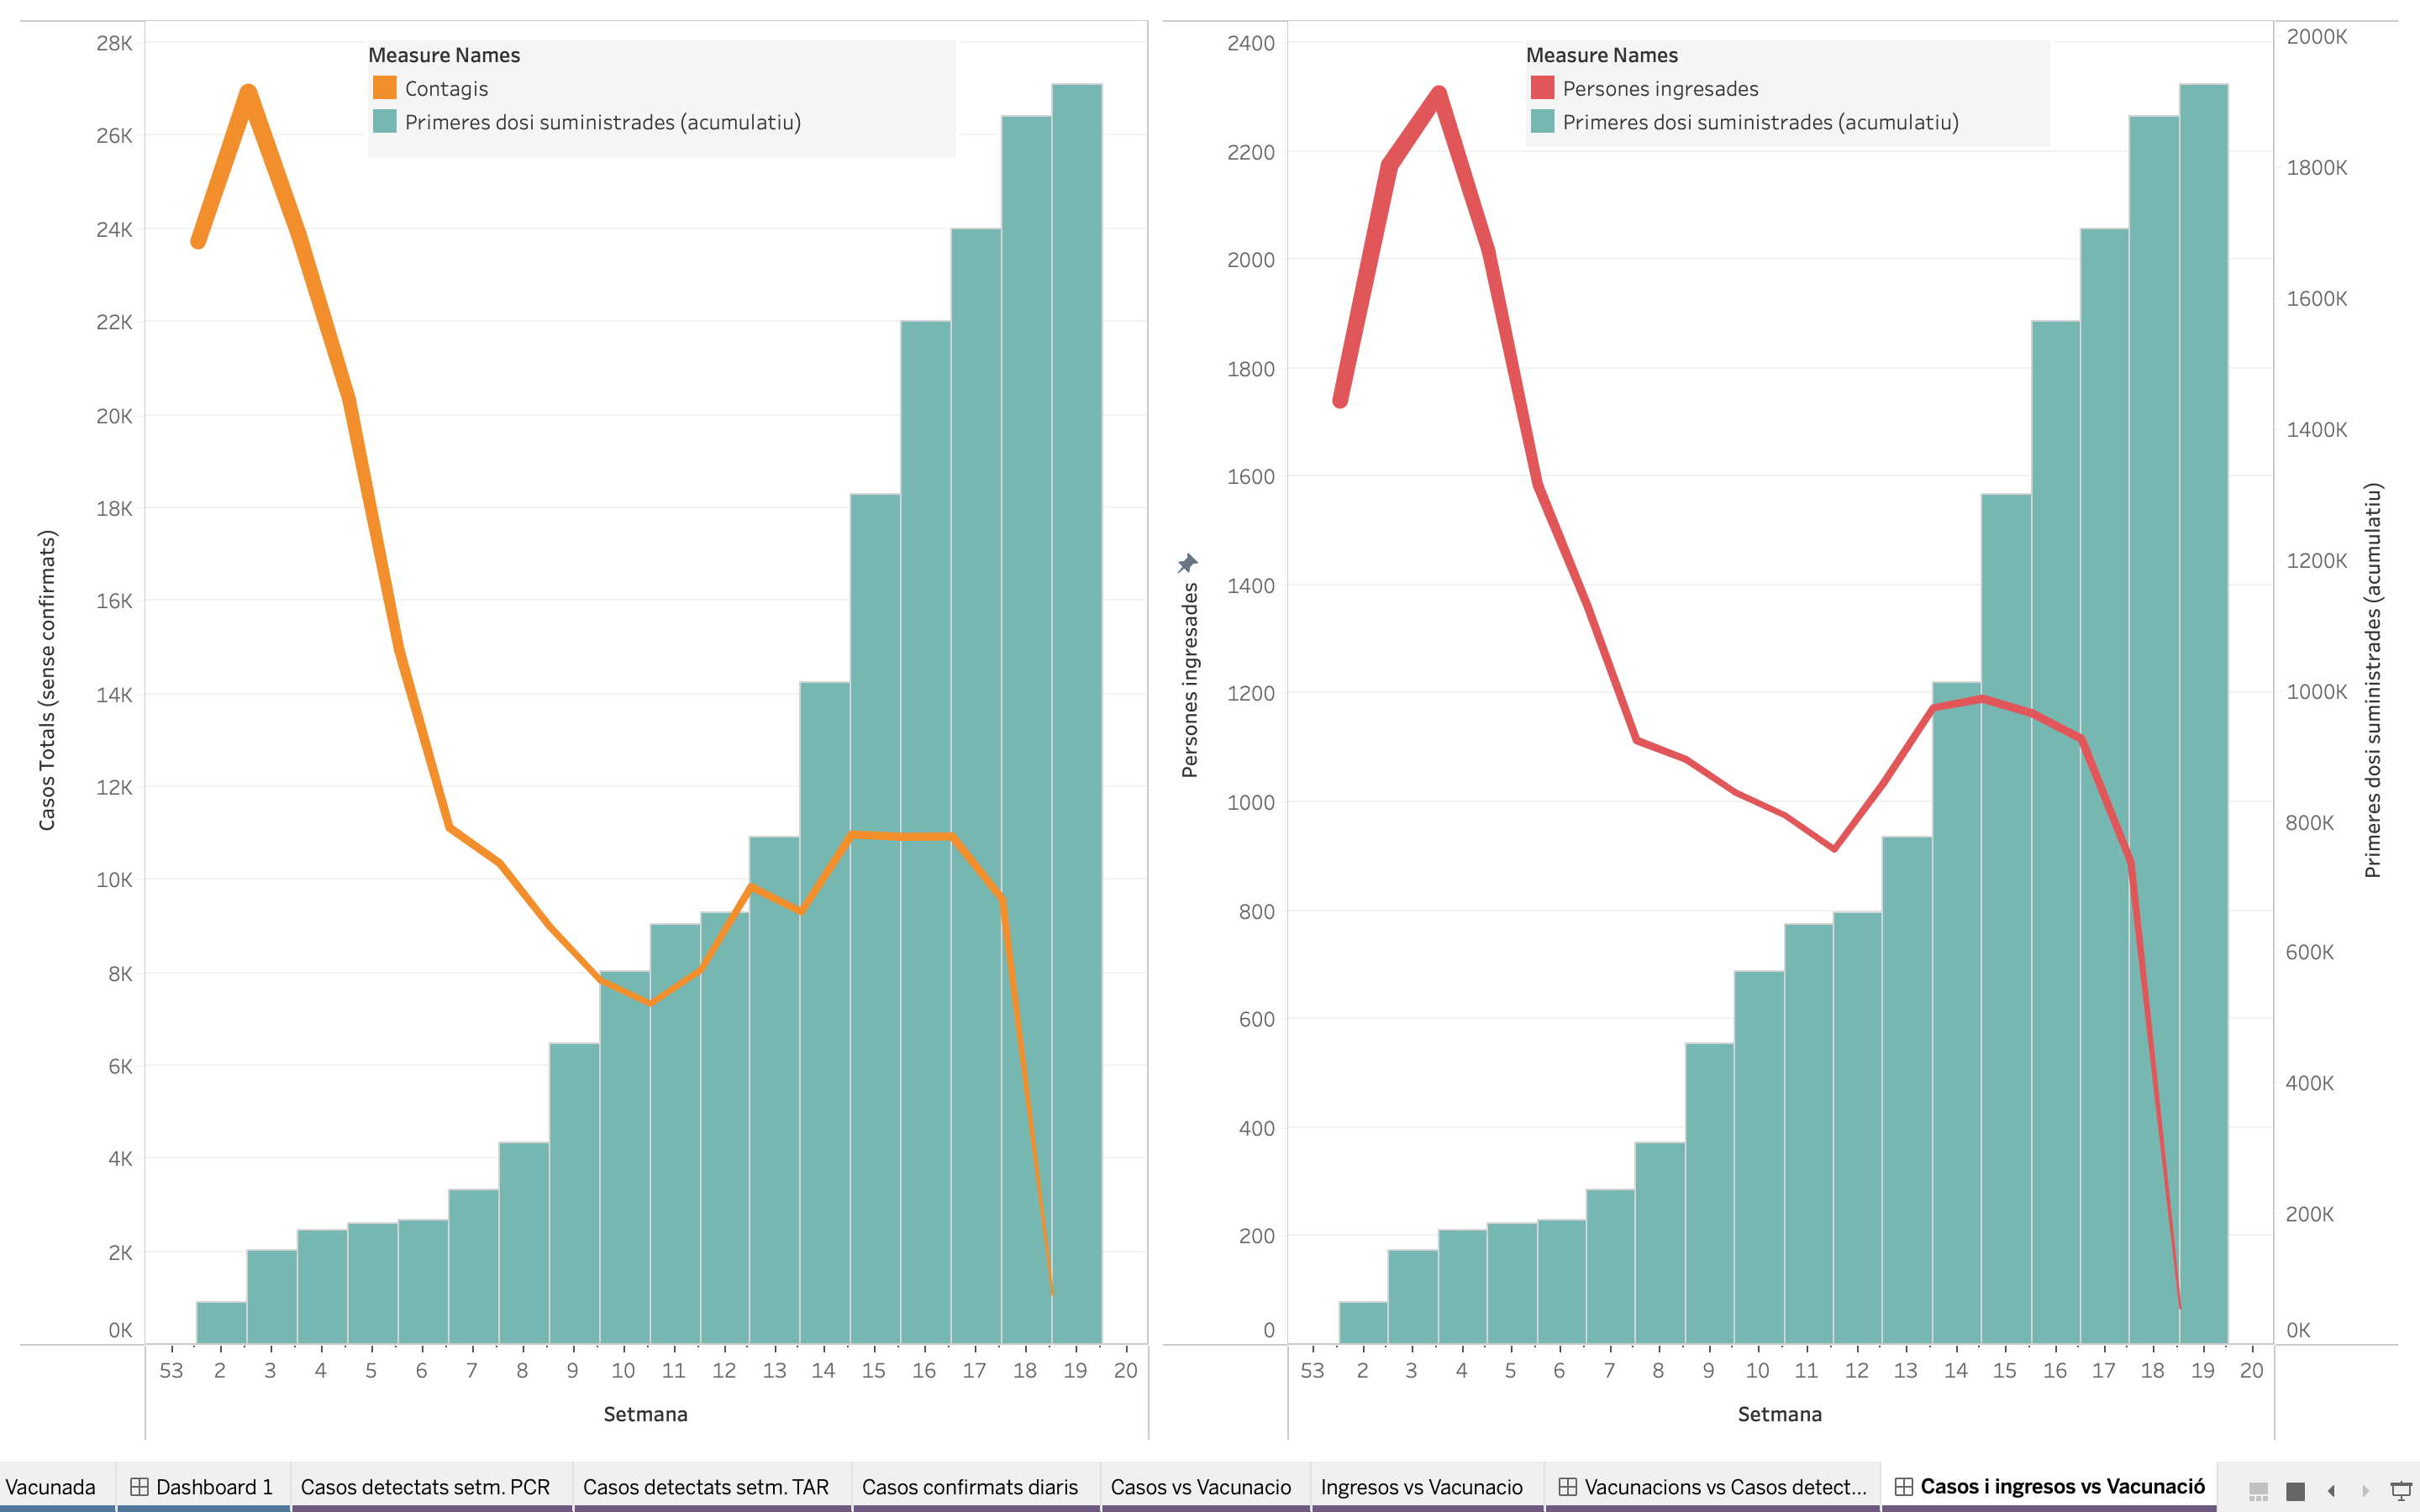

Layout of this report page (visuals, bound fields, positions):
{"tool":"tableau","page":{"name":"Casos i ingresos vs Vacunació","canvas":[1000,1000],"units":"permille","ordinal":0},"visuals":[{"type":"worksheet","box":[0,0,1000,1000]},{"type":"worksheet","param":"horz","box":[6.5,10.6,987,978.8]},{"type":"worksheet","box":[6.5,10.6,987,978.8]},{"type":"worksheet","title":"Casos vs Vacunacio","mark":"Bar","rows":["Calculation_438608421527216129","VACUNATS_DOSI_1"],"cols":["DATA"],"box":[6.5,10.6,471.1,978.8]},{"type":"worksheet","title":"Ingresos vs Vacunacio","mark":"Bar","rows":["INGRESSOS_TOTAL","VACUNATS_DOSI_1"],"cols":["DATA"],"box":[477.6,10.6,515.9,978.8]},{"type":"worksheet","title":"Casos vs Vacunacio","mark":"Bar","rows":["Calculation_438608421527216129","VACUNATS_DOSI_1"],"cols":["DATA"],"param":"[federated.1p4ngpn01tn2bf1b4m70l0nsrzfb].[:Measure Names]","box":[150.5,24.8,245.7,85.4]},{"type":"worksheet","title":"Ingresos vs Vacunacio","mark":"Bar","rows":["INGRESSOS_TOTAL","VACUNATS_DOSI_1"],"cols":["DATA"],"param":"[federated.1p4ngpn01tn2bf1b4m70l0nsrzfb].[:Measure Names]","box":[629,25.2,219.7,84.8]}]}

Visuals, with their boxes on the dashboard's canvas, which has no fixed pixel size, in thousandths of its width and height (x1, y1, x2, y2). These are canvas units, not pixel positions in the 2420x1512 screenshot, which may show the page scaled, cropped or inside an application window:
worksheet: [x1=0, y1=0, x2=1000, y2=1000]
worksheet: [x1=6, y1=11, x2=994, y2=989]
worksheet: [x1=6, y1=11, x2=994, y2=989]
"Casos vs Vacunacio" worksheet (Bar marks): [x1=6, y1=11, x2=478, y2=989]
"Ingresos vs Vacunacio" worksheet (Bar marks): [x1=478, y1=11, x2=994, y2=989]
"Casos vs Vacunacio" worksheet (Bar marks): [x1=150, y1=25, x2=396, y2=110]
"Ingresos vs Vacunacio" worksheet (Bar marks): [x1=629, y1=25, x2=849, y2=110]
